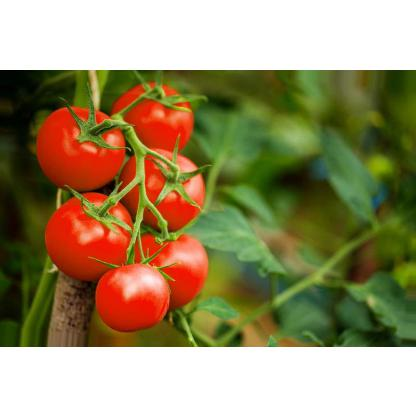tomato: (29, 98, 140, 194), (100, 144, 212, 235), (114, 219, 214, 319), (37, 185, 141, 279), (98, 76, 206, 160), (89, 255, 175, 335)
